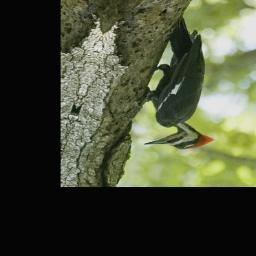Woodpecker: (126, 14, 254, 159)
